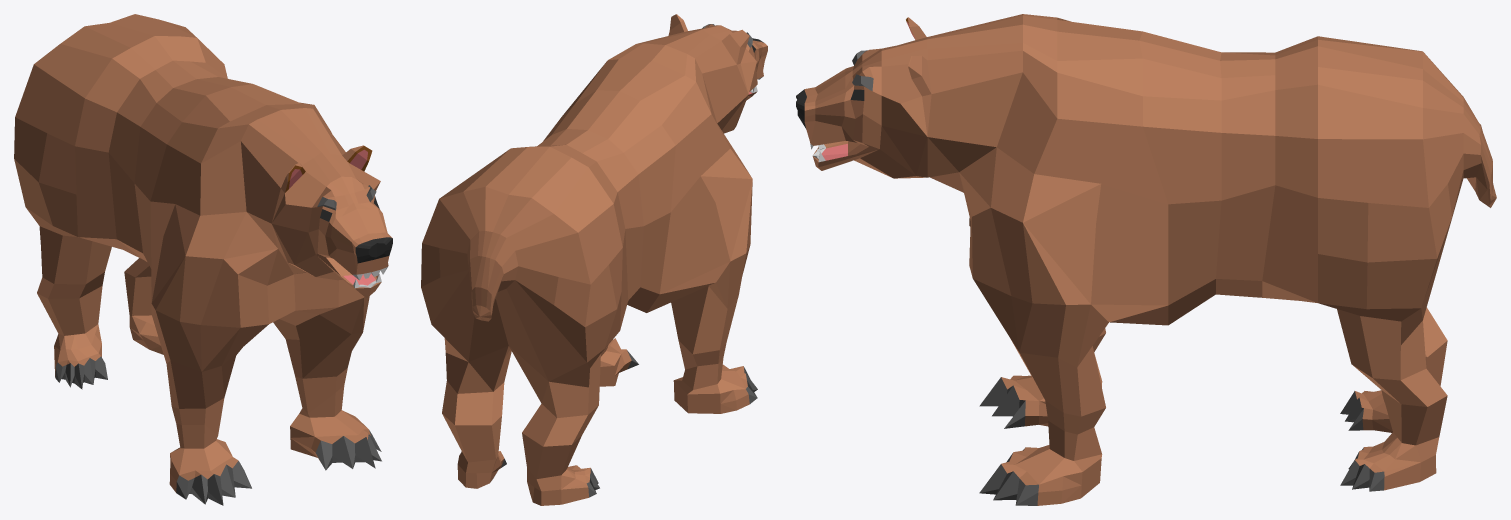
File: Bear.obj
3 renders of one model, left to right at view 1: azimuth 30°, elevation 25°; view 2: azimuth 150°, elevation 25°; view 3: azimuth 270°, elevation 25°, orthographic. The views are drawn at different scales.
Visible parts, largest first — view 1: Cylinder; view 2: Cylinder; view 3: Cylinder.
Part boxes in pixels (x1,y1,x2,y2): Cylinder: (14, 14, 392, 505); Cylinder: (421, 14, 767, 505); Cylinder: (796, 14, 1496, 505).
Bounding box in the file's own units: 1.24 × 2.01 × 3.01.
Materials: 1 (1 with a texture image).
